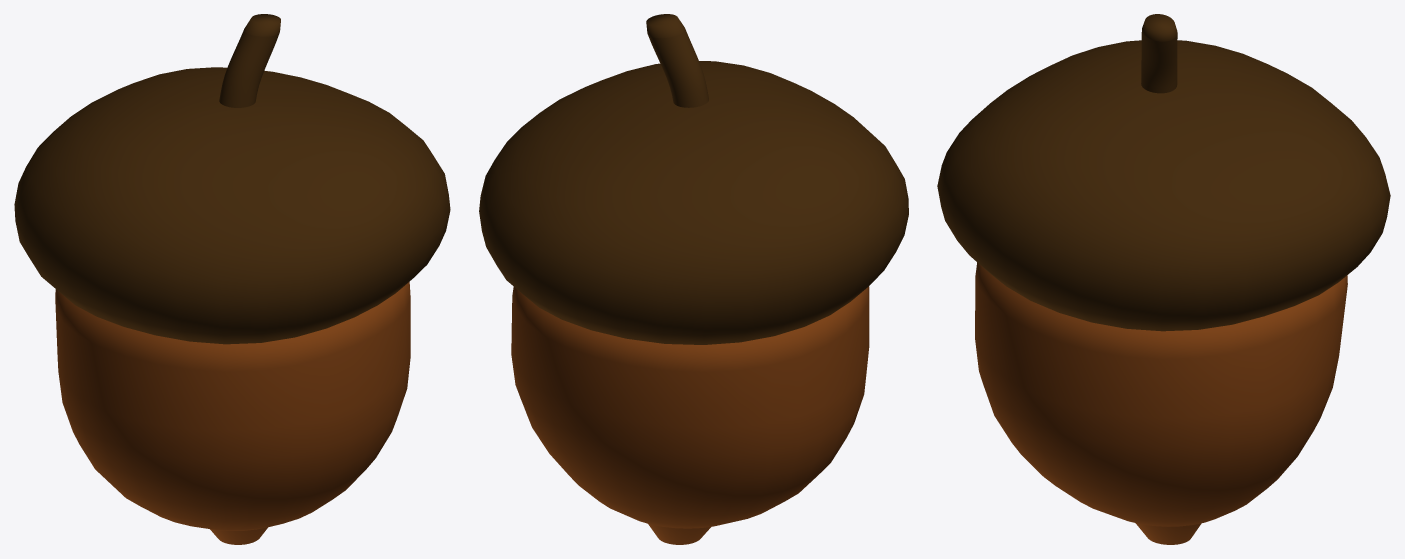
The model's file is mdl_Acorn.fbx.
3 renders of one model, left to right at view 1: azimuth 30°, elevation 25°; view 2: azimuth 150°, elevation 25°; view 3: azimuth 270°, elevation 25°, orthographic. The views are drawn at different scales.
Parts seen in each view (by area): view 1: Acorn; view 2: Acorn; view 3: Acorn.
Part boxes in pixels (left/top/right/bottom): Acorn: left=14, top=14, right=450, bottom=544; Acorn: left=479, top=14, right=908, bottom=544; Acorn: left=937, top=14, right=1390, bottom=544.
Size of the model in its own units: 247 by 320 by 249.
